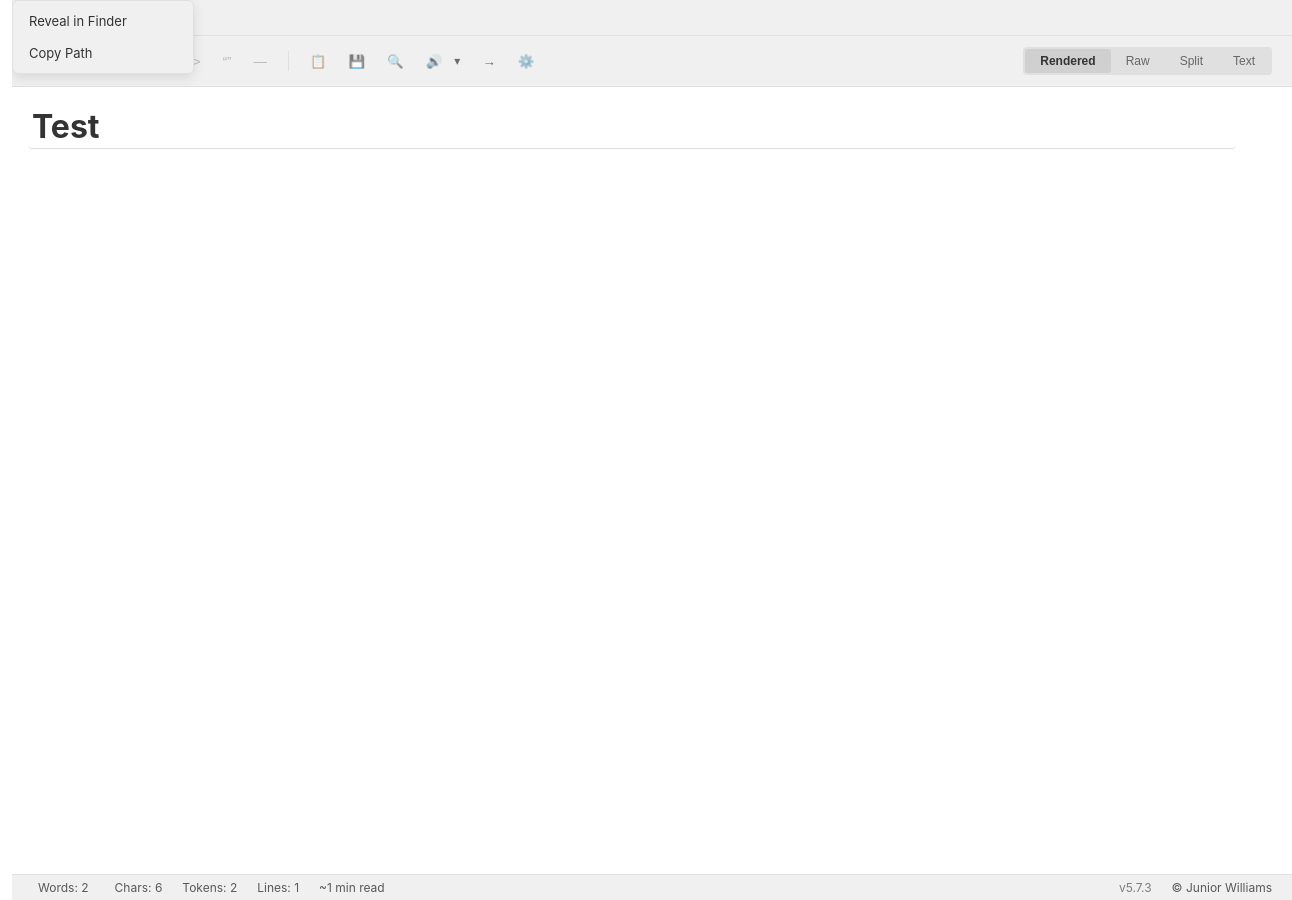
it: App Integration Tests › Tab Context Menu › should show error if clipboard write fails
Expected: the tab "test.md ×" is shown, [22,7,121,35]
Click the menu item "Copy Path" at point(103, 53), box [13,37,193,69]
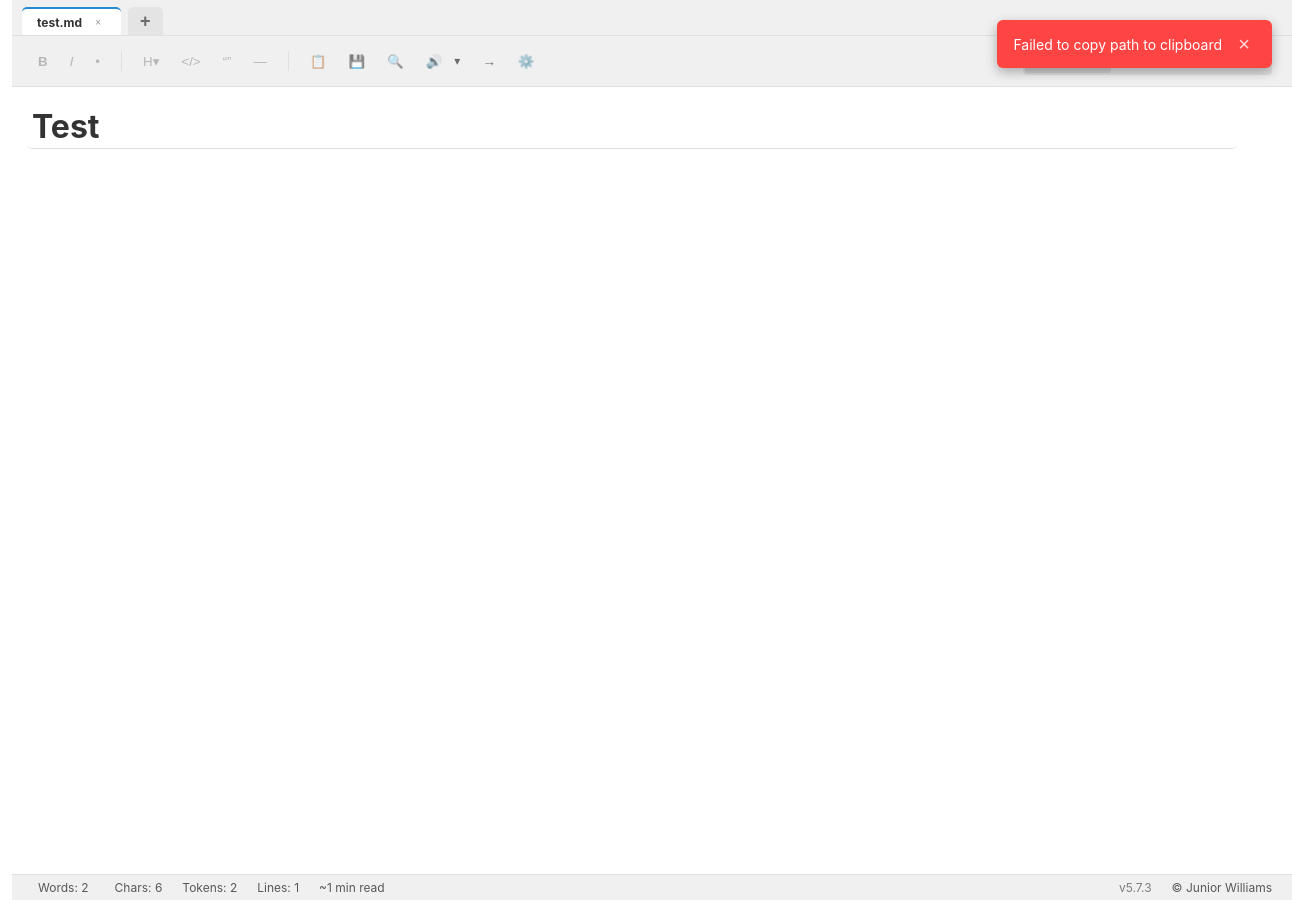
Now the text "Failed to copy path to clipboard" is shown, box [1013,36,1222,52]
